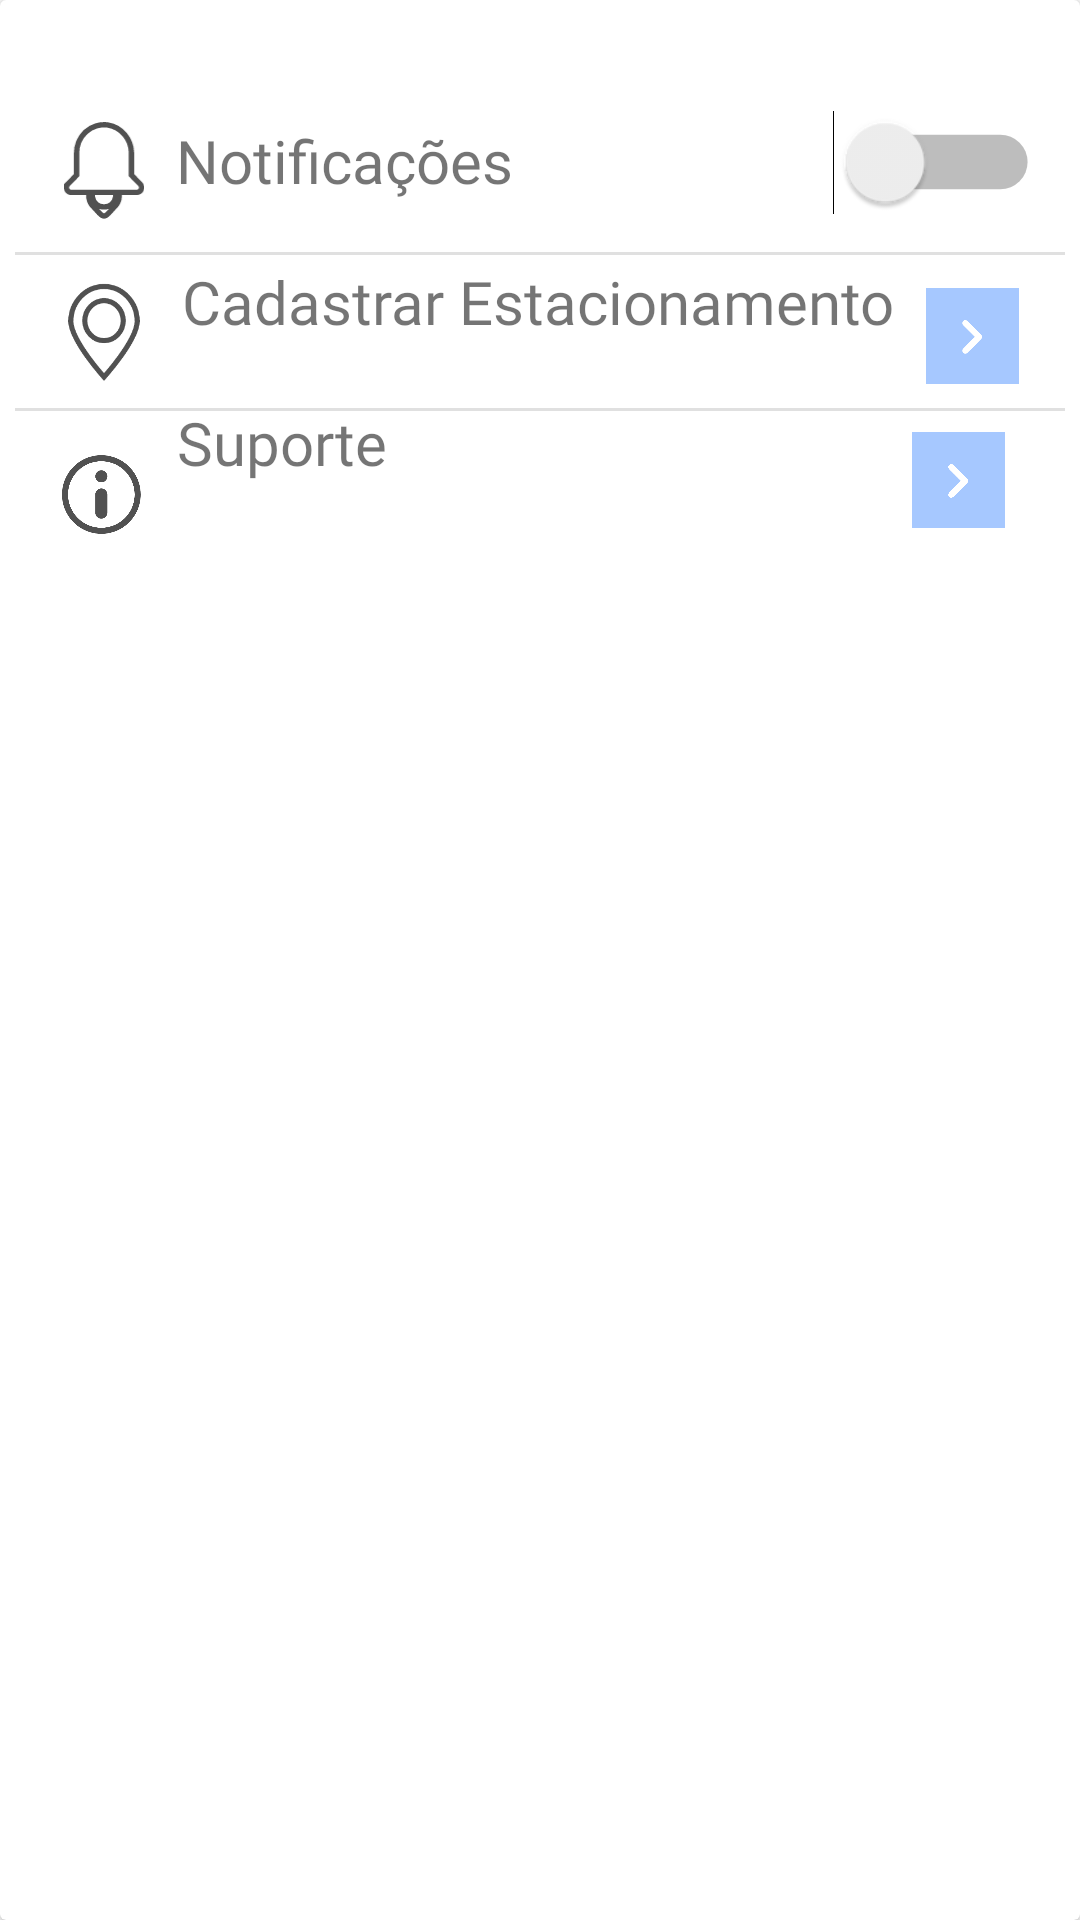

Named icons in this screenshot (1080*1920) and their bounding boxes, (x1, y1, x2, y2):
alfinete: (68, 284, 140, 381)
info: (62, 455, 141, 534)
notificacoes: (64, 122, 144, 219)
setinha direita: (926, 288, 1019, 384), (912, 432, 1005, 528)
